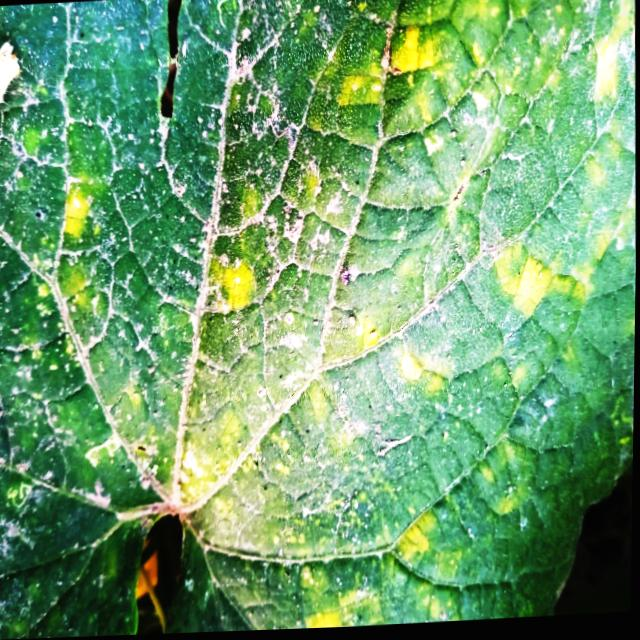Downy-Mildew: (0, 0, 635, 640)
